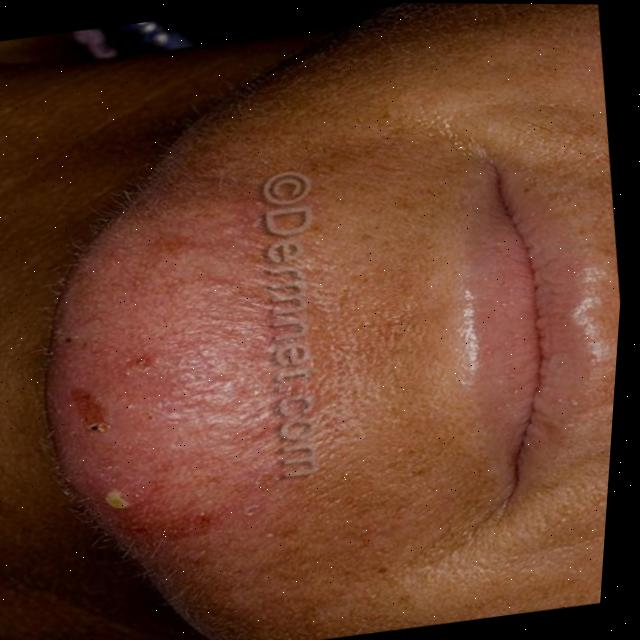Rosacea: (16, 199, 295, 562)
